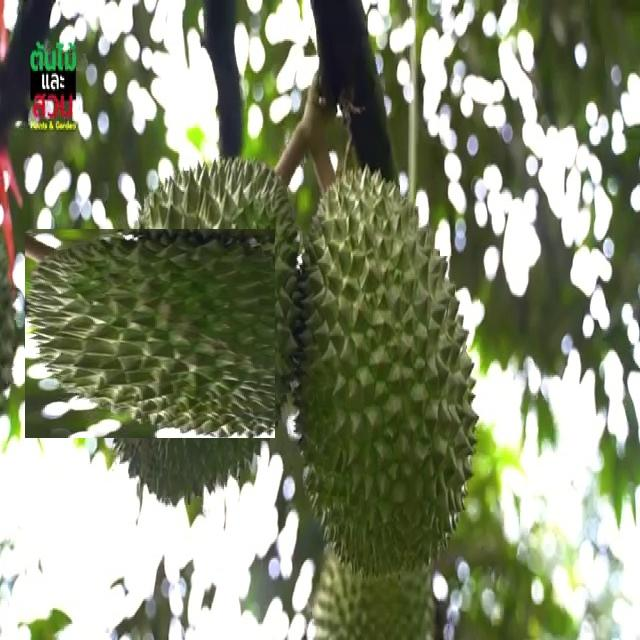durian: (275, 162, 482, 582), (61, 192, 344, 475)
